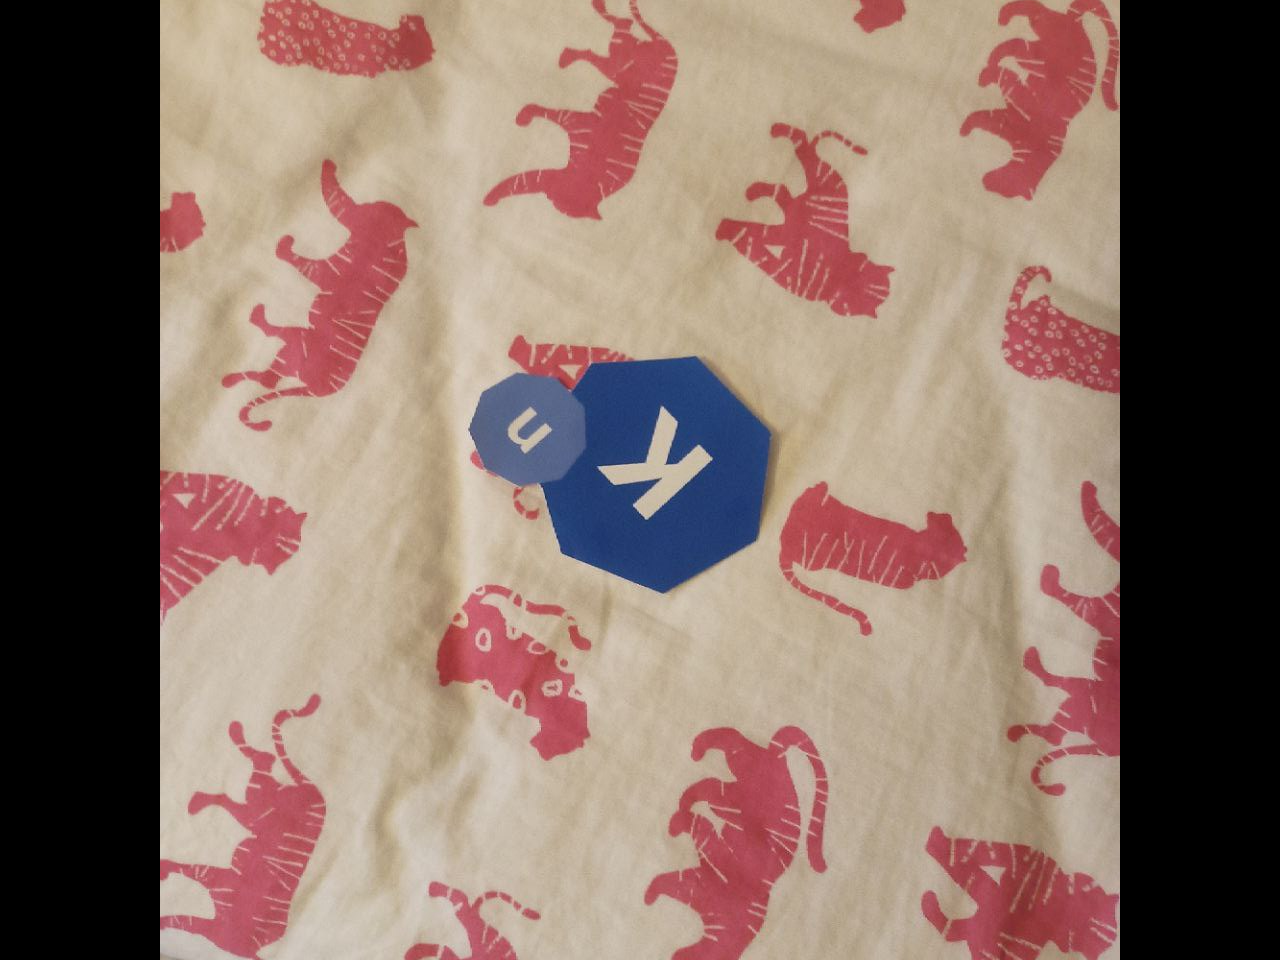knative: (468, 357, 772, 594)
